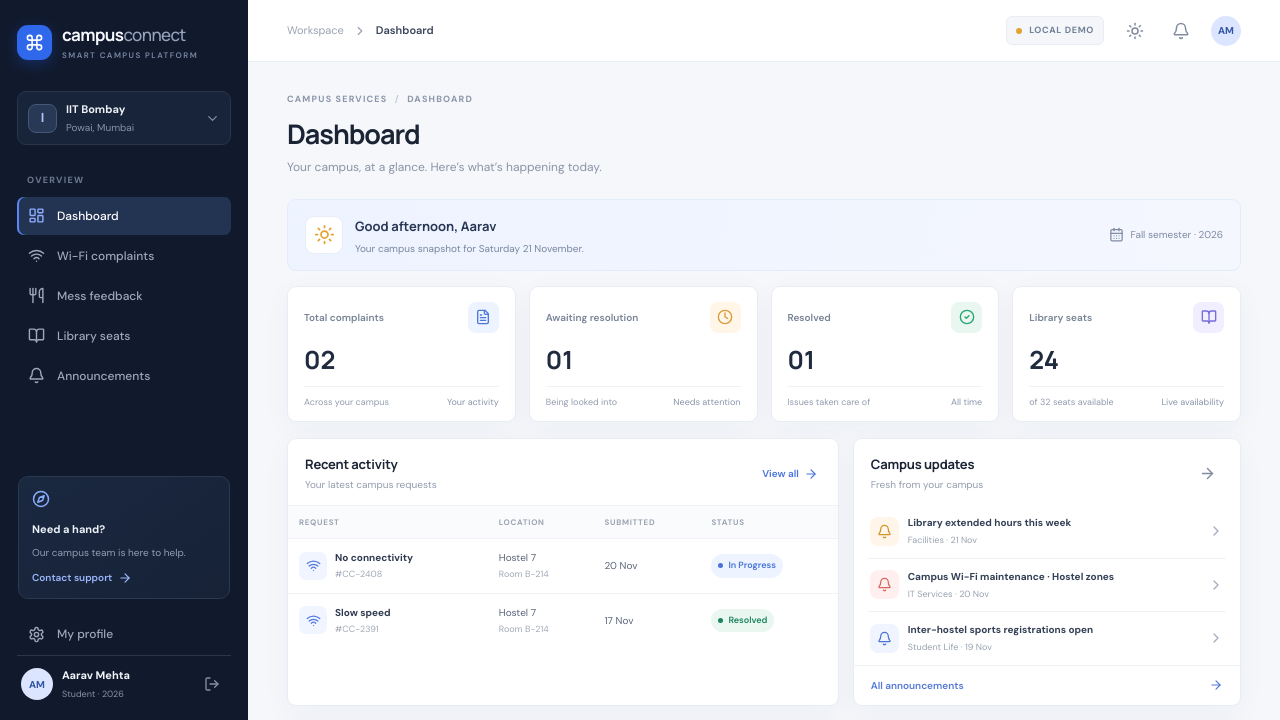
Test: local demo user journeys › collects a meal rating and blocks a second same-day rating in demo
The width and height of the screenshot is (1280, 720).
Earlier steps of the test are not shown.
Later steps or results of the test are not shown.
Expected: the heading "Dashboard" is shown, [287, 114, 420, 152]
Click the link "Mess feedback".
click(85, 296)  # box [28, 287, 143, 304]
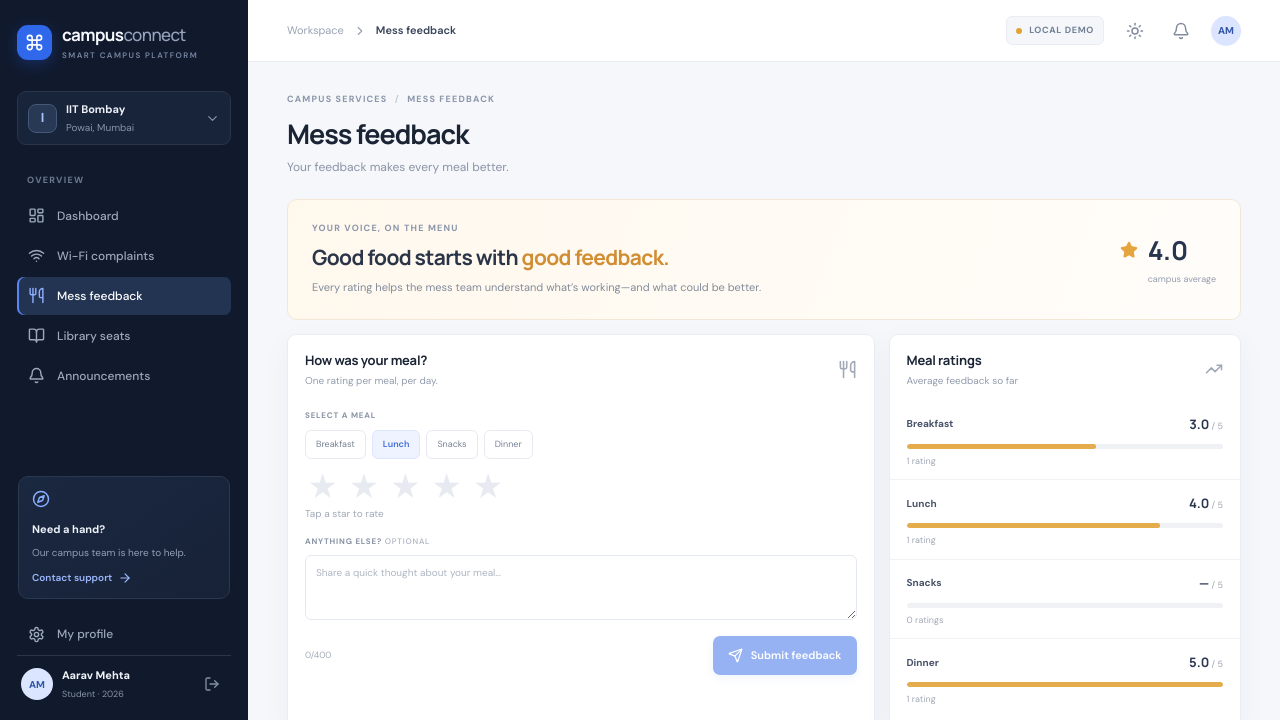
Expected: the heading "Mess feedback" is shown, [287, 114, 468, 152]
